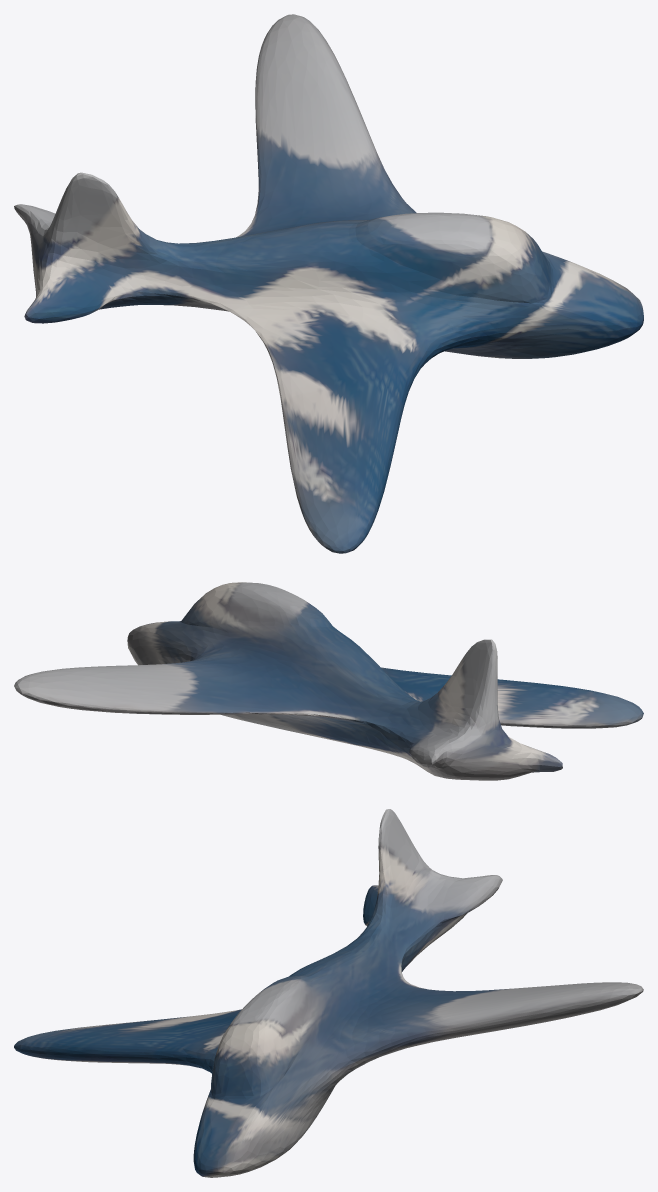
3 renders of one model, top to bottom at view 1: azimuth 30°, elevation 25°; view 2: azimuth 150°, elevation 25°; view 3: azimuth 270°, elevation 25°, orthographic. The views are drawn at different scales.
Parts seen in each view (by area): view 1: world; view 2: world; view 3: world.
Boxes of the visible parts, bbox=[...] form: world: bbox=[14, 14, 643, 553]; world: bbox=[14, 582, 643, 780]; world: bbox=[14, 809, 643, 1177].
Bounding box in the file's own units: 0.87 × 0.3799 × 1.
